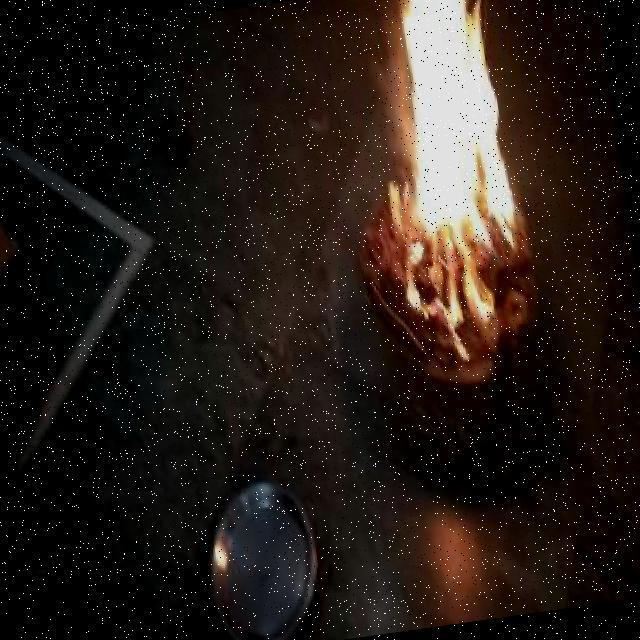Fire: (344, 0, 553, 330)
